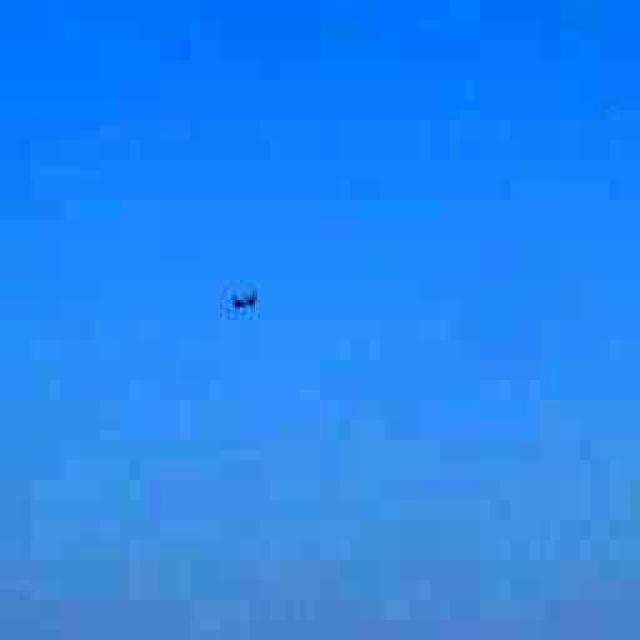bird: (212, 276, 272, 326)
